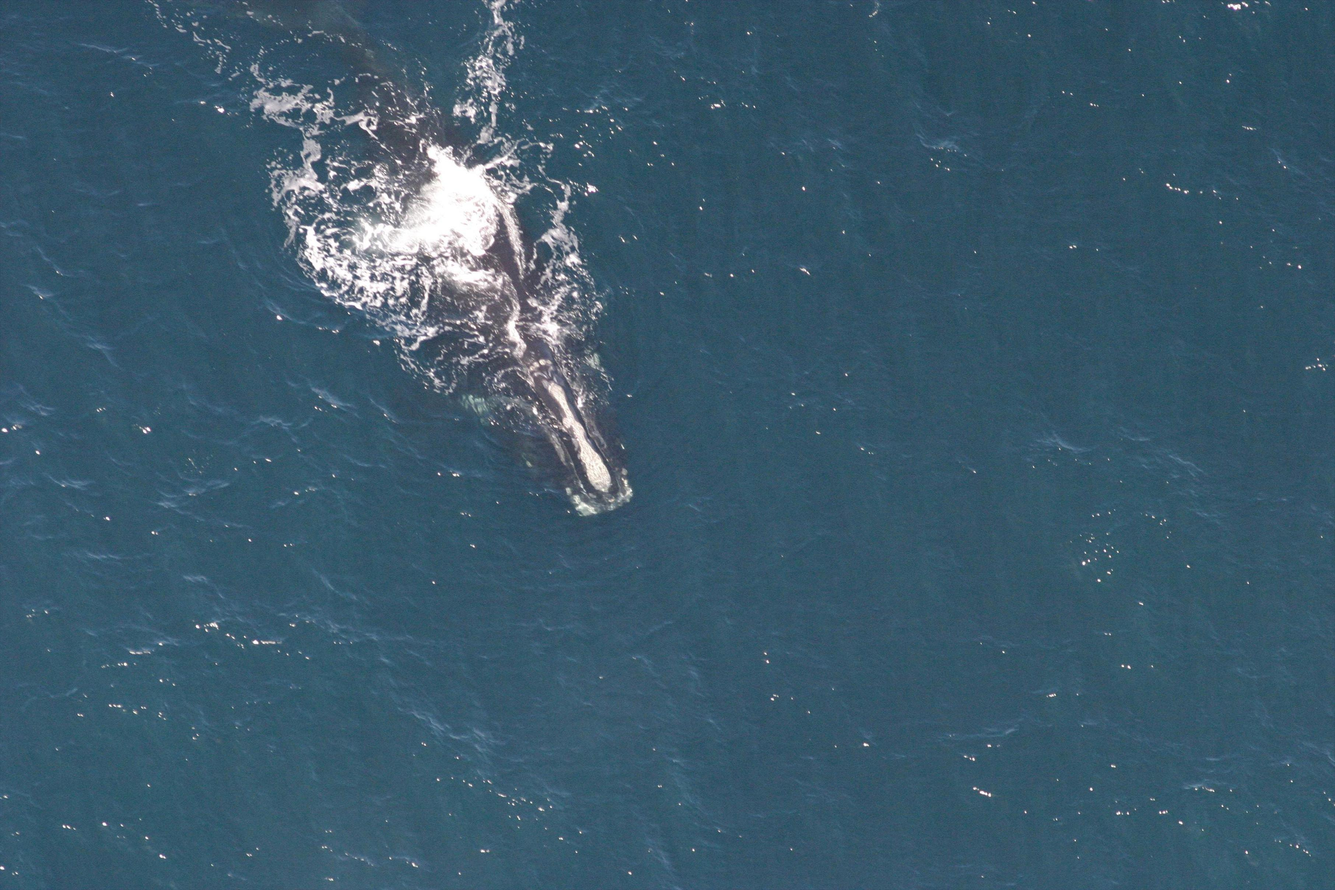whale: (232, 0, 644, 526)
